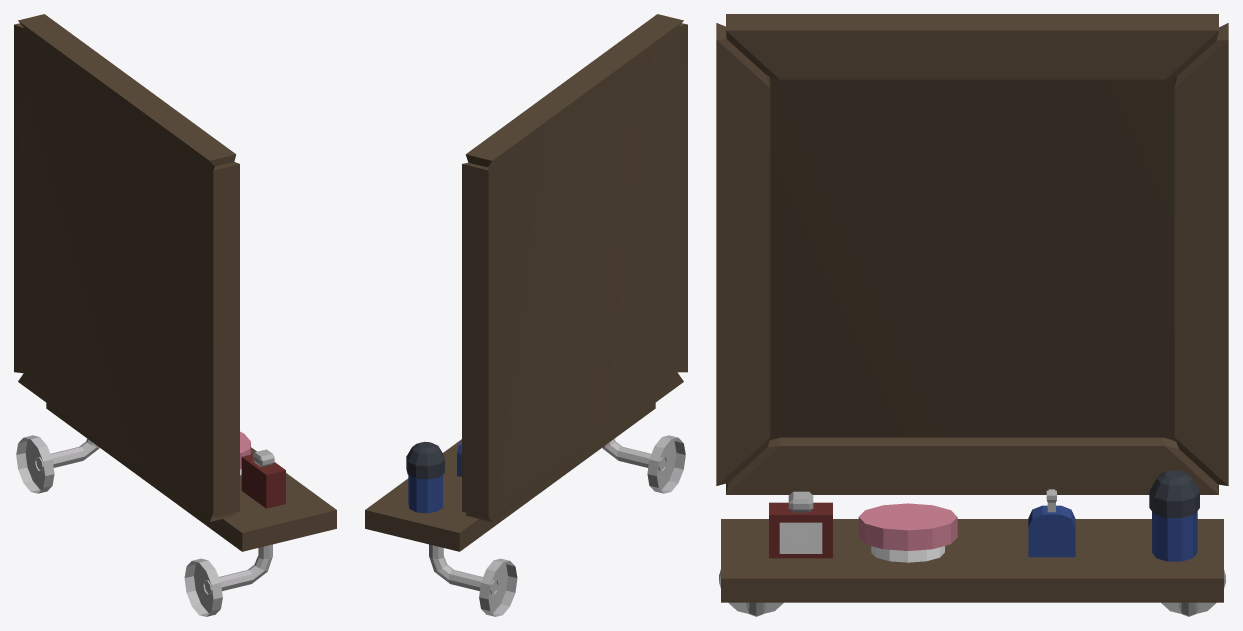
Rendered from SM_Mirror_01.glb.
The picture shows the model from 3 angles, left to right: view 1: azimuth 30°, elevation 25°; view 2: azimuth 150°, elevation 25°; view 3: azimuth 270°, elevation 25°; orthographic projection. The views are drawn at different scales.
Visible parts, largest first — view 1: SM_Mirror_01; view 2: SM_Mirror_01; view 3: SM_Mirror_01.
Boxes of the visible parts, box(x1,y1,x2,y2) form: SM_Mirror_01: box(14, 14, 336, 616); SM_Mirror_01: box(365, 14, 687, 616); SM_Mirror_01: box(716, 14, 1228, 616).
Bounding box in the file's own units: 0.2433 × 0.8596 × 0.6705.
Materials: 2 (1 with a texture image).
